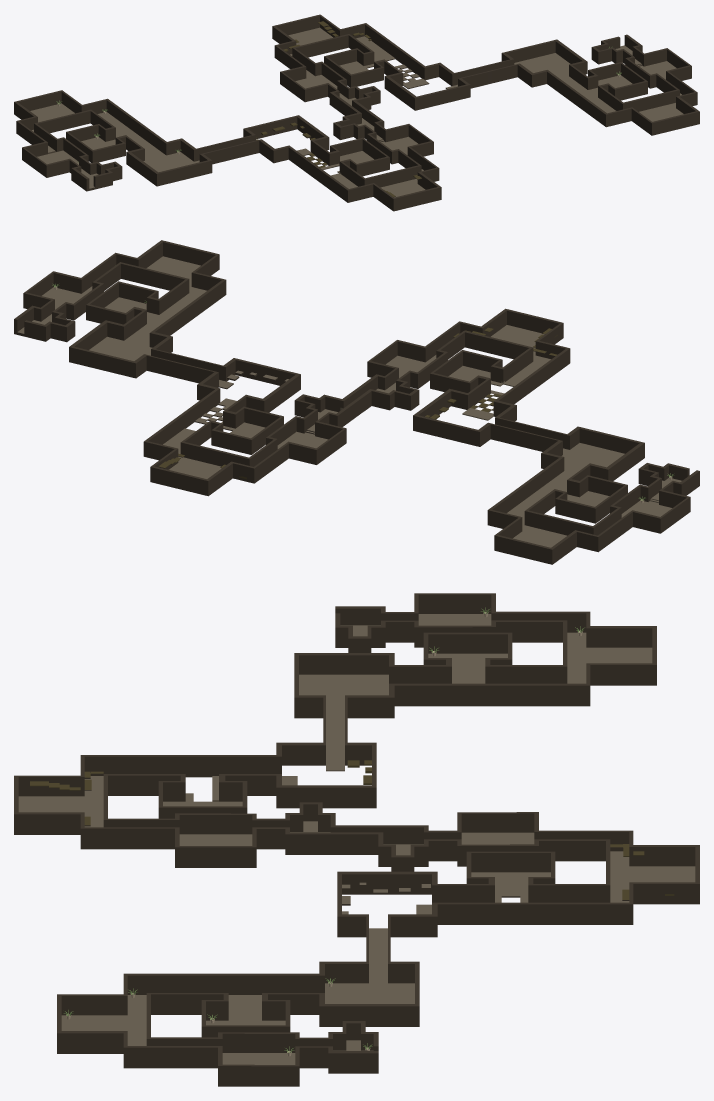
File: Mapa.fbx
The picture shows the model from 3 angles, top to bottom: view 1: azimuth 30°, elevation 25°; view 2: azimuth 150°, elevation 25°; view 3: azimuth 270°, elevation 25°; orthographic projection. The views are drawn at different scales.
Parts seen in each view (by area): view 1: pCube30; view 2: pCube30; view 3: pCube30.
Boxes of the visible parts, box(x1,y1,x2,y2) form: pCube30: box(14, 14, 699, 211); pCube30: box(14, 240, 699, 564); pCube30: box(14, 593, 699, 1086).
Size of the model in its own units: 7473 by 152 by 4582.
